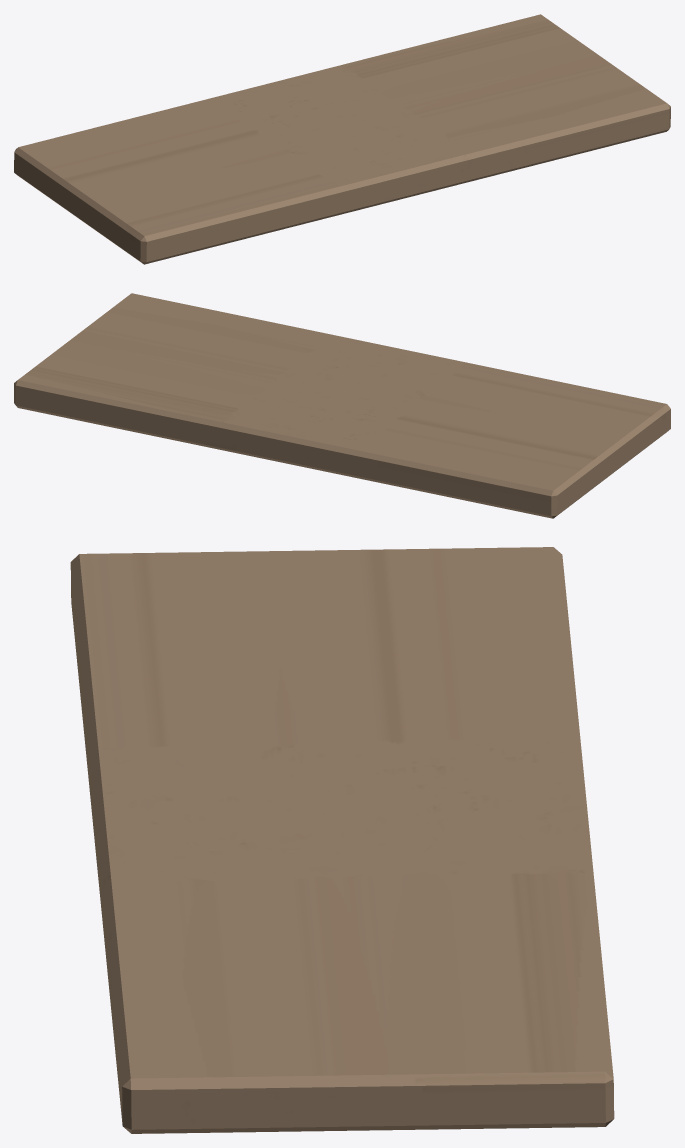
File: wallShelf01.fbx
The picture shows the model from 3 angles, top to bottom: view 1: azimuth 30°, elevation 25°; view 2: azimuth 150°, elevation 25°; view 3: azimuth 270°, elevation 25°; orthographic projection. The views are drawn at different scales.
Parts seen in each view (by area): view 1: wallShelf01.001; view 2: wallShelf01.001; view 3: wallShelf01.001.
Boxes of the visible parts, left/top/right/bottom form: wallShelf01.001: left=14, top=14, right=670, bottom=264; wallShelf01.001: left=14, top=293, right=670, bottom=518; wallShelf01.001: left=70, top=547, right=614, bottom=1133.
Size of the model in its own units: 2.29 by 0.1481 by 1.01.
